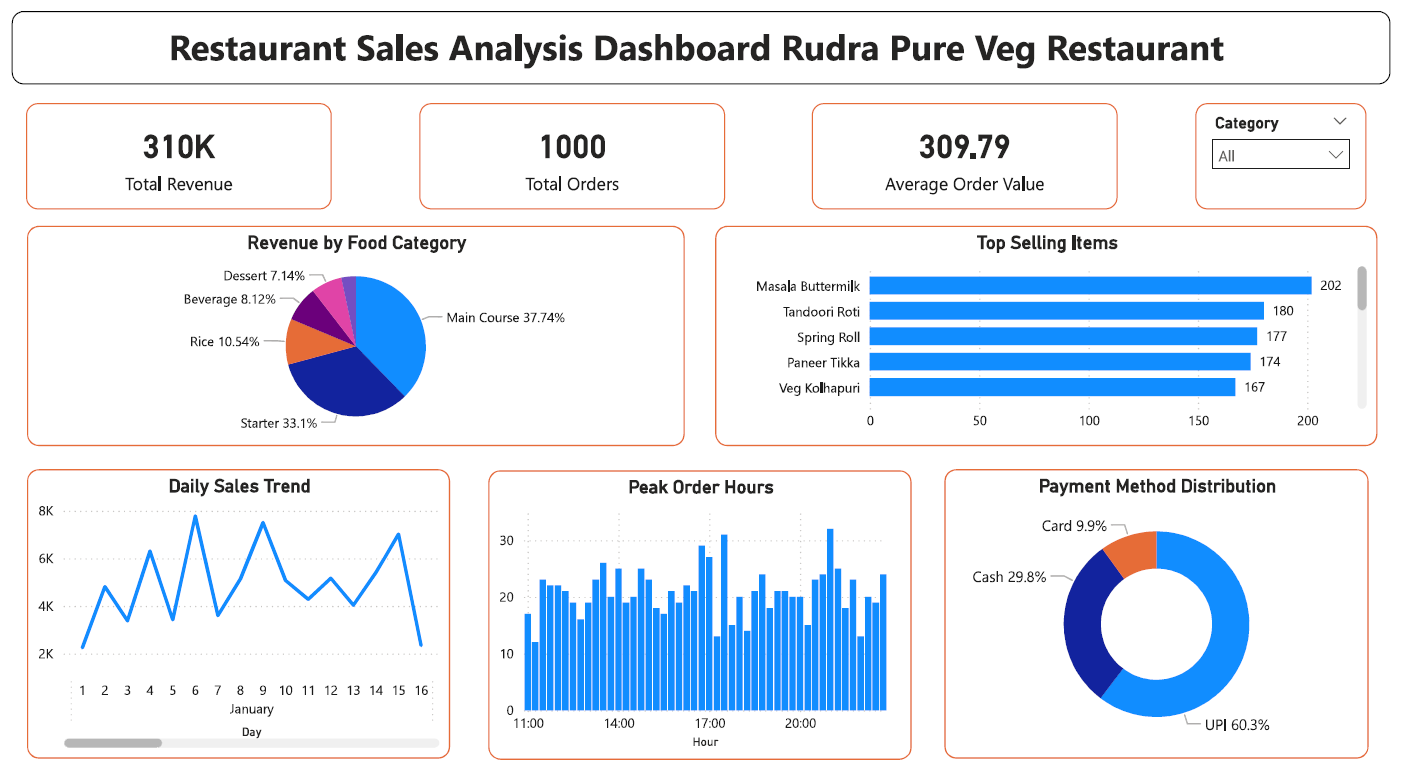

The page's visual inventory and layout, read from the dashboard file:
{"tool":"powerbi","page":{"name":"Page 1","canvas":[1280,720],"ordinal":0},"visuals":[{"type":"textbox","box":[14,18.5,1257.9,66.5],"z":0},{"type":"card","fields":{"Values":["rudra_pure_veg_restaurant_dataset.Total Revenue"]},"box":[27.4,102.2,279.1,96.5],"z":1000},{"type":"card","fields":{"Values":["rudra_pure_veg_restaurant_dataset.Total Orders"]},"box":[385.5,102.2,279.1,96.5],"z":2000},{"type":"card","fields":{"Values":["rudra_pure_veg_restaurant_dataset.Average Order Value"]},"box":[743.7,102.2,279.1,96.5],"z":3000},{"type":"pieChart","title":"Revenue by Food Category","fields":{"Category":["rudra_pure_veg_restaurant_dataset.category"],"Y":["rudra_pure_veg_restaurant_dataset.Total Revenue"]},"box":[28.3,214.2,600,201.2],"z":4000},{"type":"lineChart","title":"Daily Sales Trend","fields":{"Y":["Sum(rudra_pure_veg_restaurant_dataset.total_amount)"],"Category":["rudra_pure_veg_restaurant_dataset.date.Variation.Date Hierarchy.Month","rudra_pure_veg_restaurant_dataset.date.Variation.Date Hierarchy.Day"]},"box":[28.3,436.3,386,264],"z":6000},{"type":"clusteredColumnChart","title":"Peak Order Hours","fields":{"Y":["rudra_pure_veg_restaurant_dataset.Total Orders"],"Category":["rudra_pure_veg_restaurant_dataset.time"]},"box":[449.2,437.4,386,264],"z":7000},{"type":"donutChart","title":"Payment Method Distribution","fields":{"Category":["rudra_pure_veg_restaurant_dataset.payment_method"],"Y":["rudra_pure_veg_restaurant_dataset.Total Orders"]},"box":[865.5,436.3,386,264],"z":8000},{"type":"slicer","fields":{"Values":["rudra_pure_veg_restaurant_dataset.category"]},"box":[1069.8,108.1,193,83.7],"z":8001},{"type":"clusteredBarChart","title":"Top Selling Items","fields":{"Category":["rudra_pure_veg_restaurant_dataset.item_name"],"Y":["Sum(rudra_pure_veg_restaurant_dataset.quantity)"]},"box":[662.8,214,600,201.2],"z":8002}]}

Visuals, with their boxes in screenshot pixels (x1, y1, x2, y2), scaled from the page's 1280x720 canvas onto the 1402x774 screenshot:
textbox: box(15, 20, 1393, 91)
card - rudra_pure_veg_restaurant_dataset.Total Revenue: box(30, 110, 336, 214)
card - rudra_pure_veg_restaurant_dataset.Total Orders: box(422, 110, 728, 214)
card - rudra_pure_veg_restaurant_dataset.Average Order Value: box(815, 110, 1120, 214)
"Revenue by Food Category" pieChart: box(31, 230, 688, 447)
"Daily Sales Trend" lineChart: box(31, 469, 454, 753)
"Peak Order Hours" clusteredColumnChart: box(492, 470, 915, 754)
"Payment Method Distribution" donutChart: box(948, 469, 1371, 753)
slicer - rudra_pure_veg_restaurant_dataset.category: box(1172, 116, 1383, 206)
"Top Selling Items" clusteredBarChart: box(726, 230, 1383, 446)
